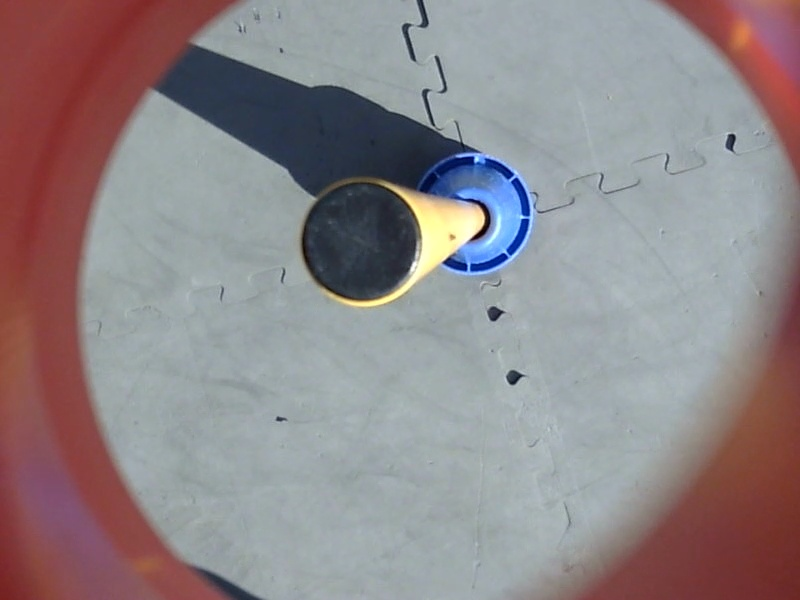tip: (293, 172, 429, 314)
